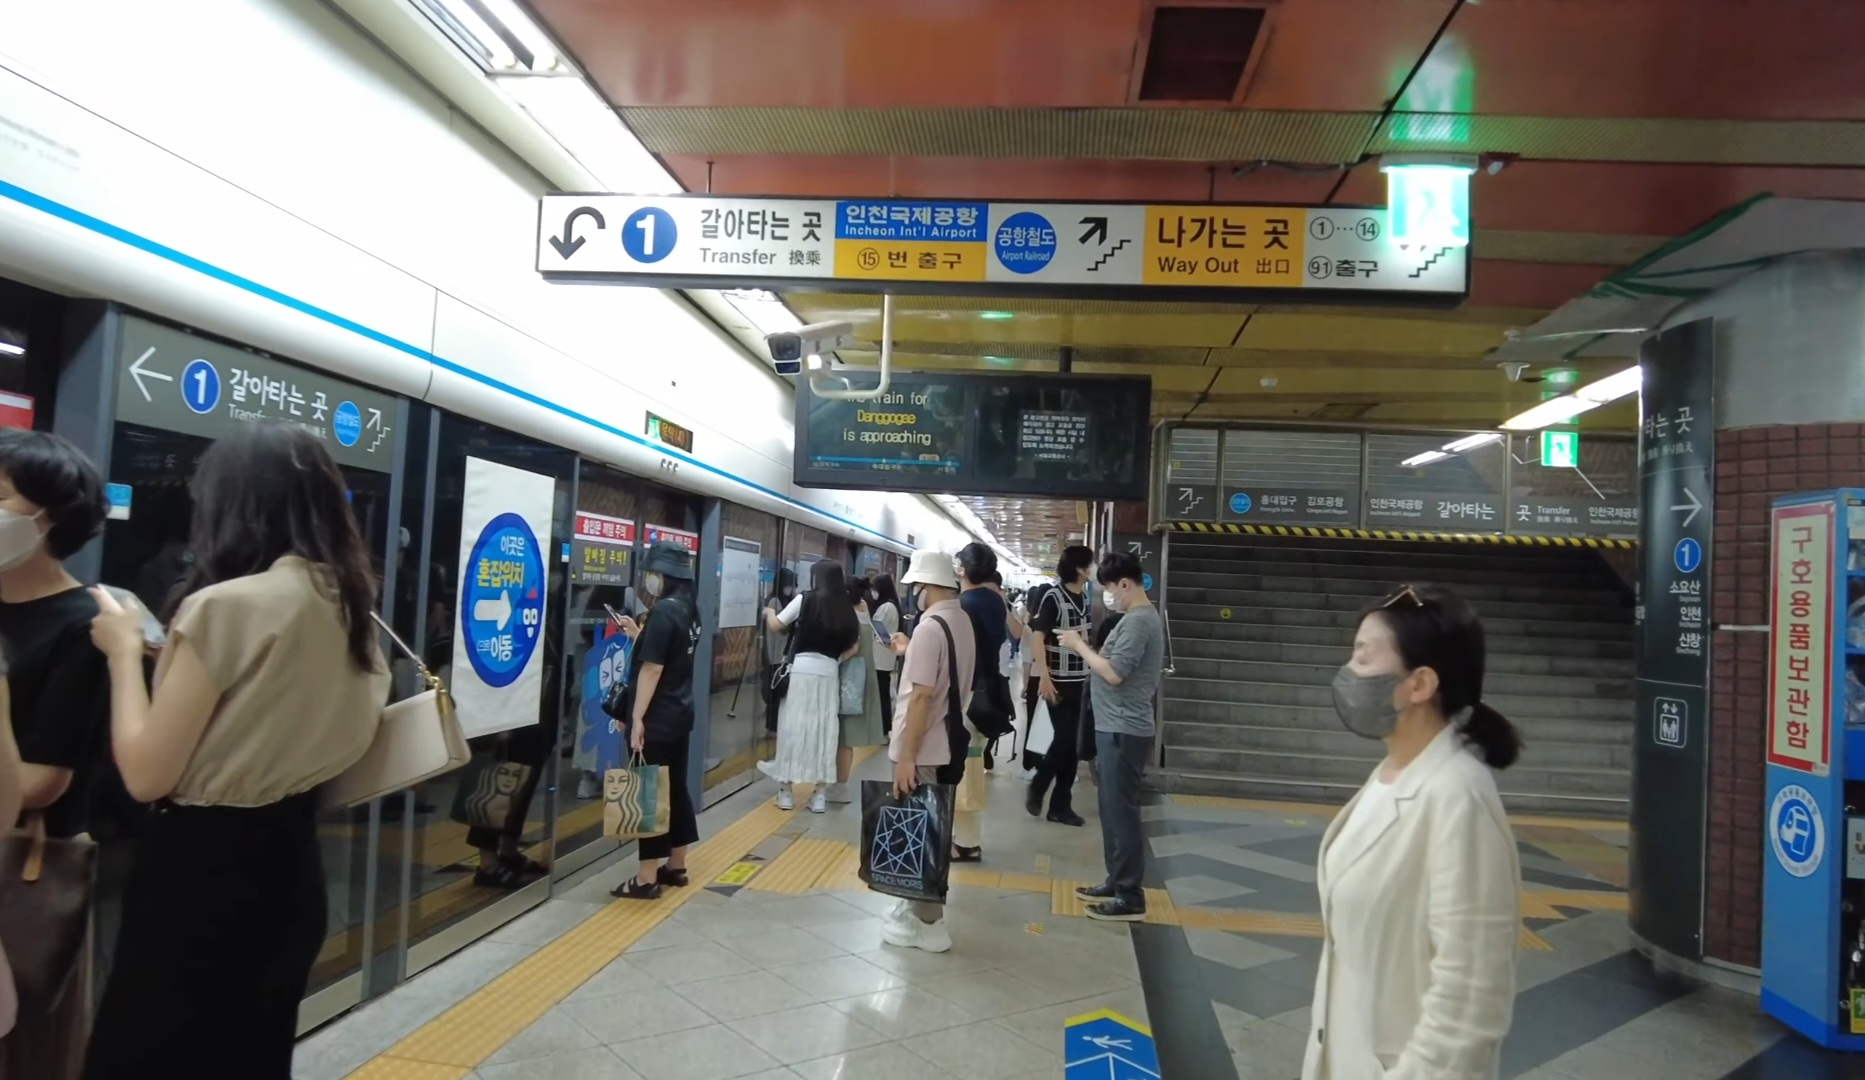signBoard: (524, 159, 1482, 318)
